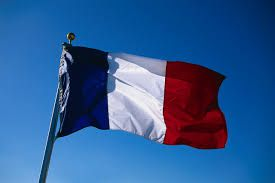French Flag: (56, 44, 229, 150)
